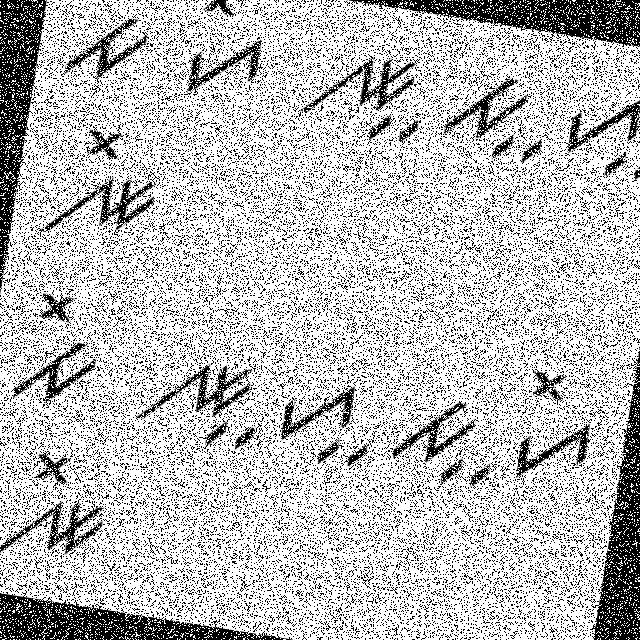hah: (267, 373, 379, 473), (550, 75, 639, 183)
ho: (165, 0, 287, 107), (510, 361, 605, 492)
mbah: (431, 58, 556, 170), (381, 383, 505, 493)
mbo: (0, 280, 112, 417), (54, 0, 165, 86)
ndah: (127, 337, 272, 458), (286, 39, 434, 150)
ndo: (32, 111, 170, 261), (0, 440, 119, 582)
